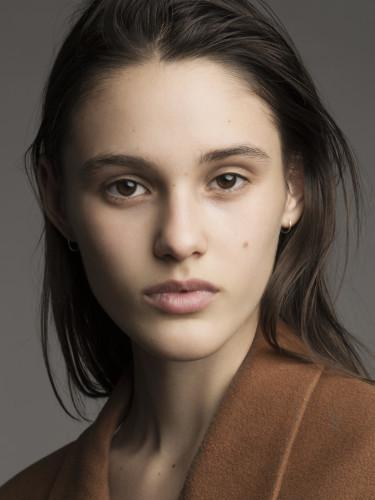Sober: (78, 71, 269, 331)
